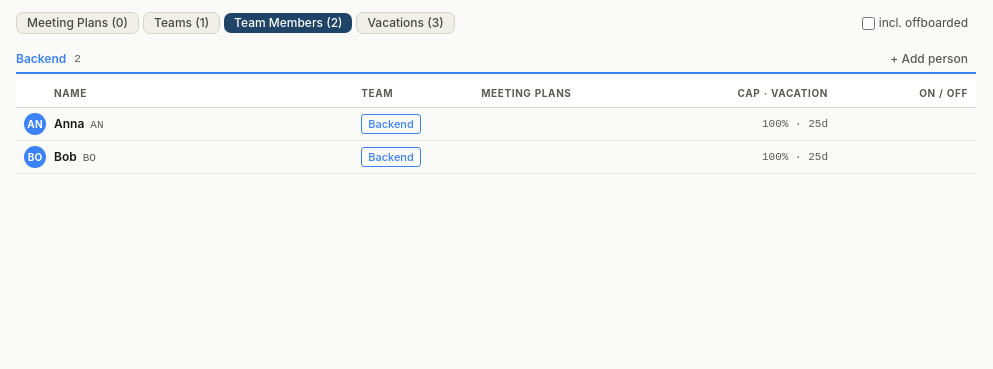
Vacation filter › shows all vacations by default and switches to vacations section
Click vacations pill.
Click the button "Vacations (3)" at (406, 23), box [356, 12, 455, 34]
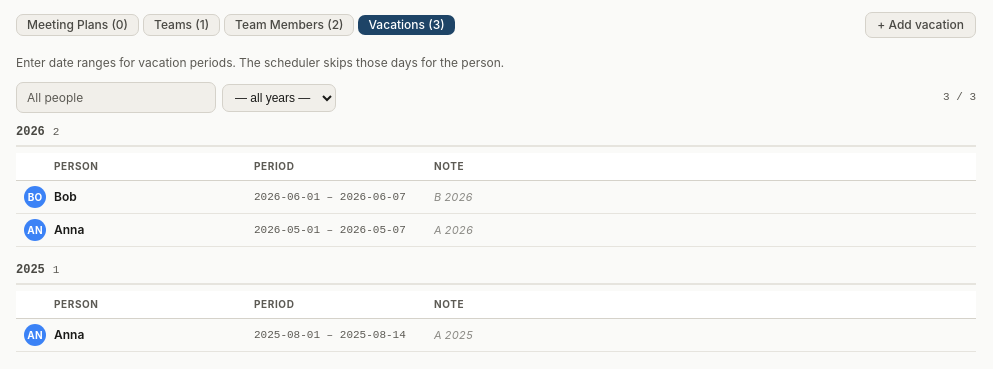
Now the text "A 2025" is shown, box [426, 318, 976, 352]
Now the text "A 2026" is shown, box [426, 214, 976, 246]
Now the text "B 2026" is shown, box [426, 180, 976, 214]
